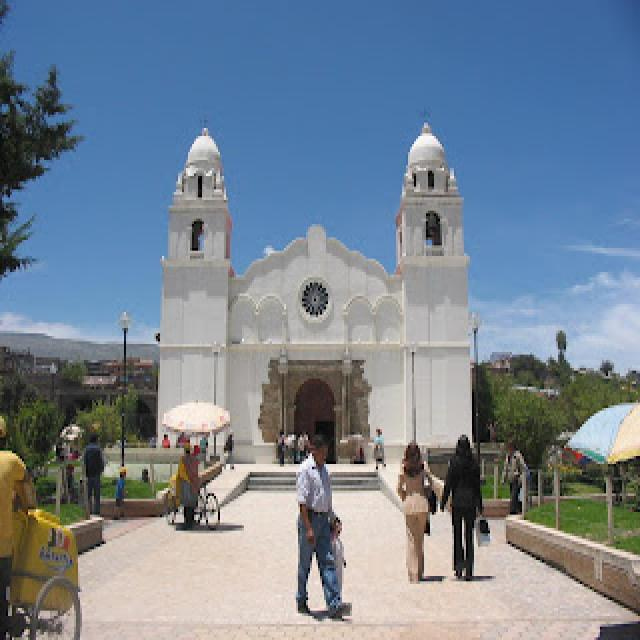CAMPANARIO: (163, 182, 235, 289)
CUPULA: (402, 132, 464, 202), (176, 122, 229, 184)
PORTADA CENTRAL: (278, 358, 352, 466)
SIMETRIA COLONIAL: (142, 100, 497, 483), (398, 182, 475, 270)
TORRES: (157, 113, 242, 482), (396, 122, 482, 468)
colonial-architecture-: (101, 84, 520, 488)
